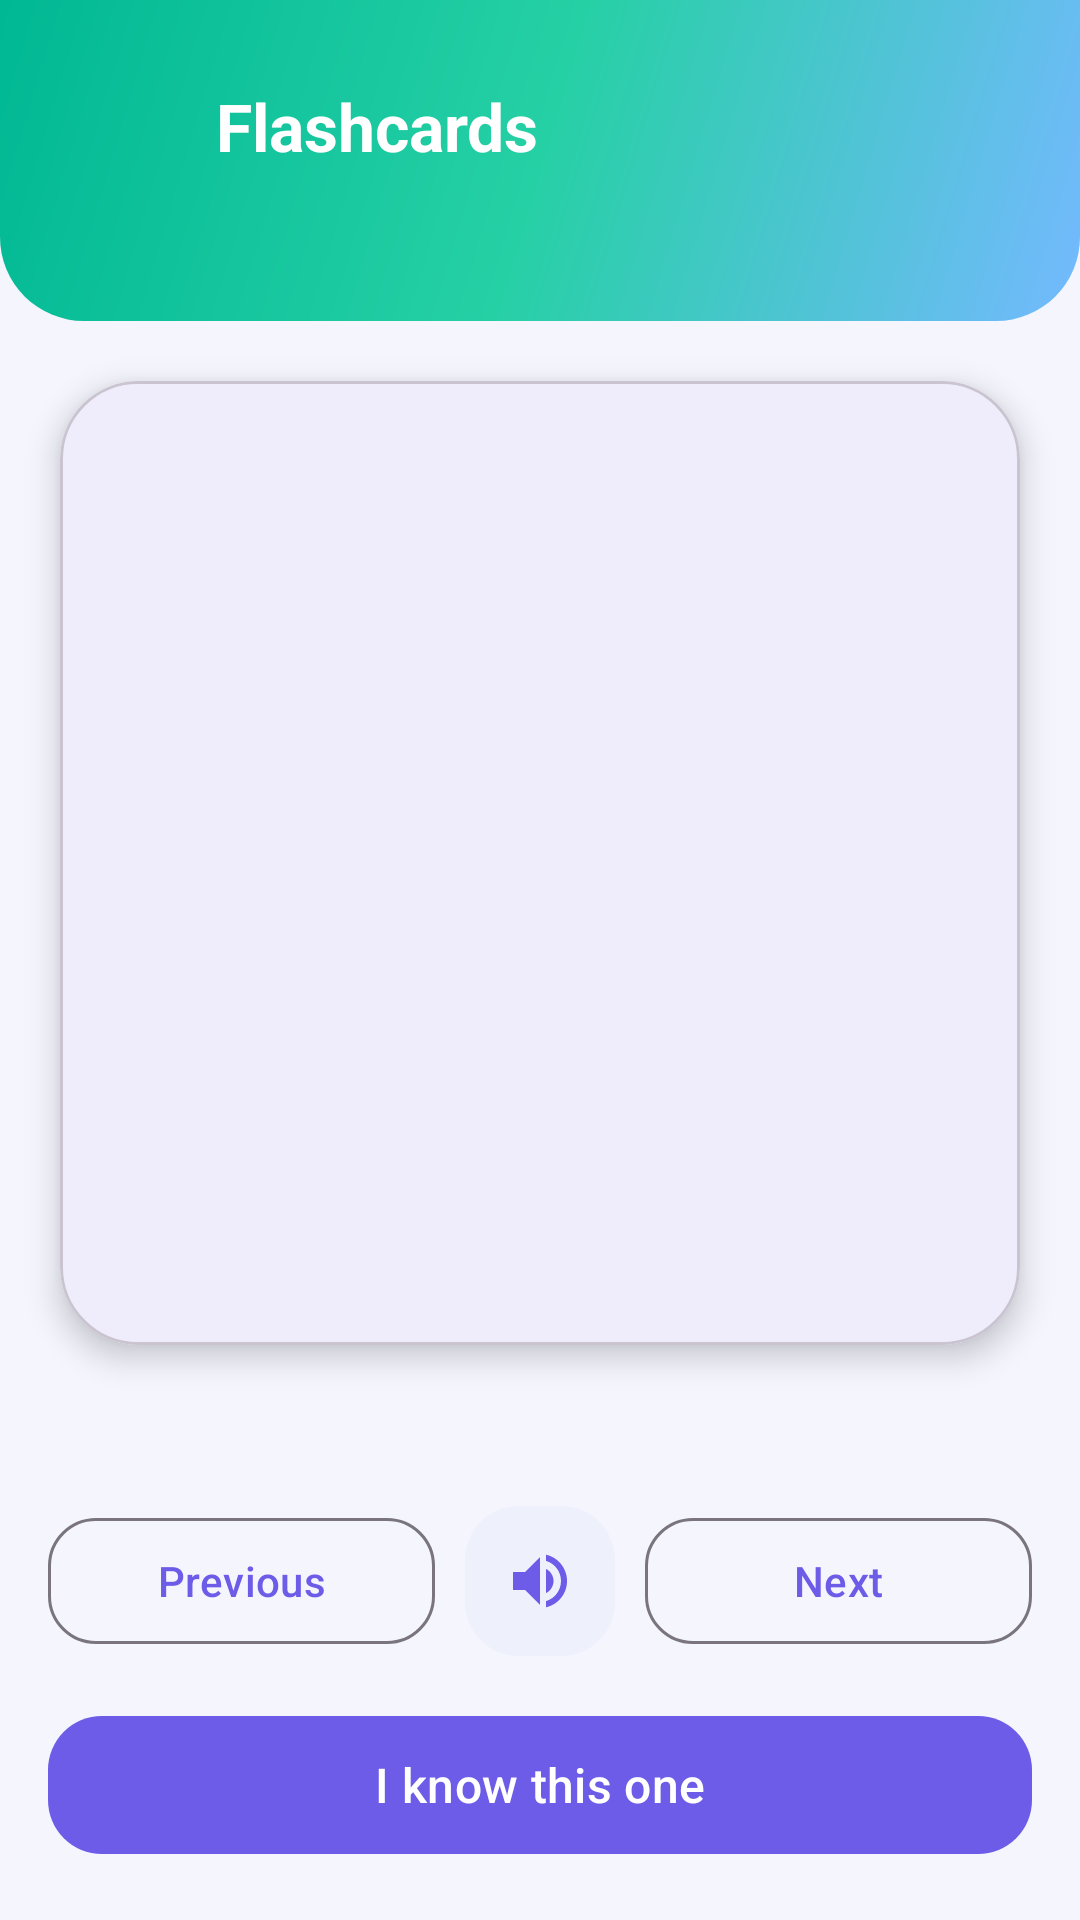

Named icons in this screenshot (1080w x 1920h) and their bounding boxes, {"left": x1, "top": y1, "right": x2, "bottom": y2}:
Listen: {"left": 513, "top": 1554, "right": 567, "bottom": 1608}
